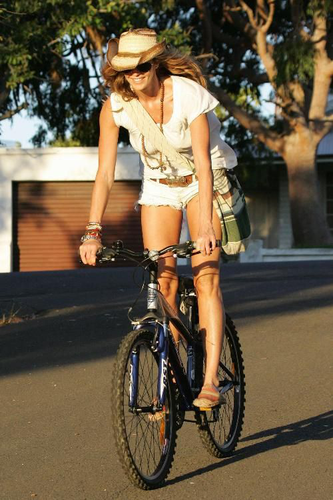bikerider: (69, 21, 266, 486)
